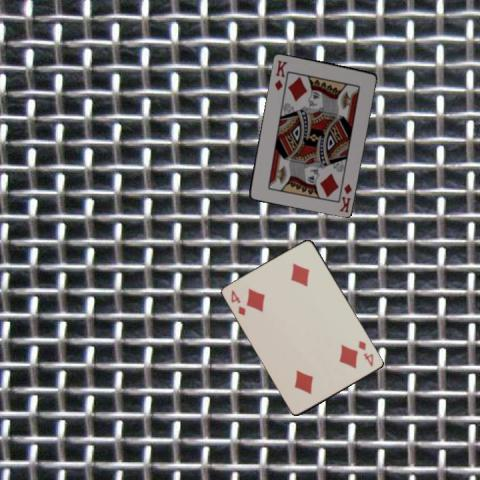4d: (356, 337, 376, 368), (228, 288, 247, 318)
Kd: (336, 181, 353, 214), (272, 58, 288, 92)
